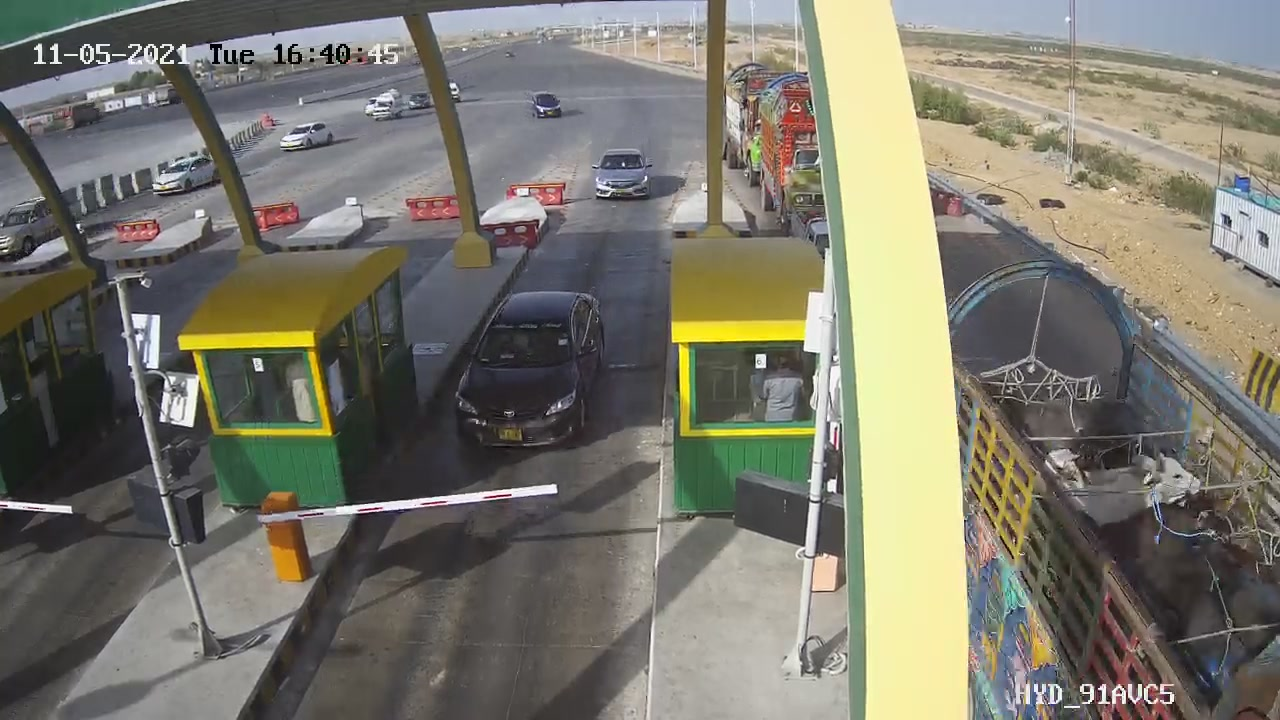F1: (441, 281, 619, 466)
